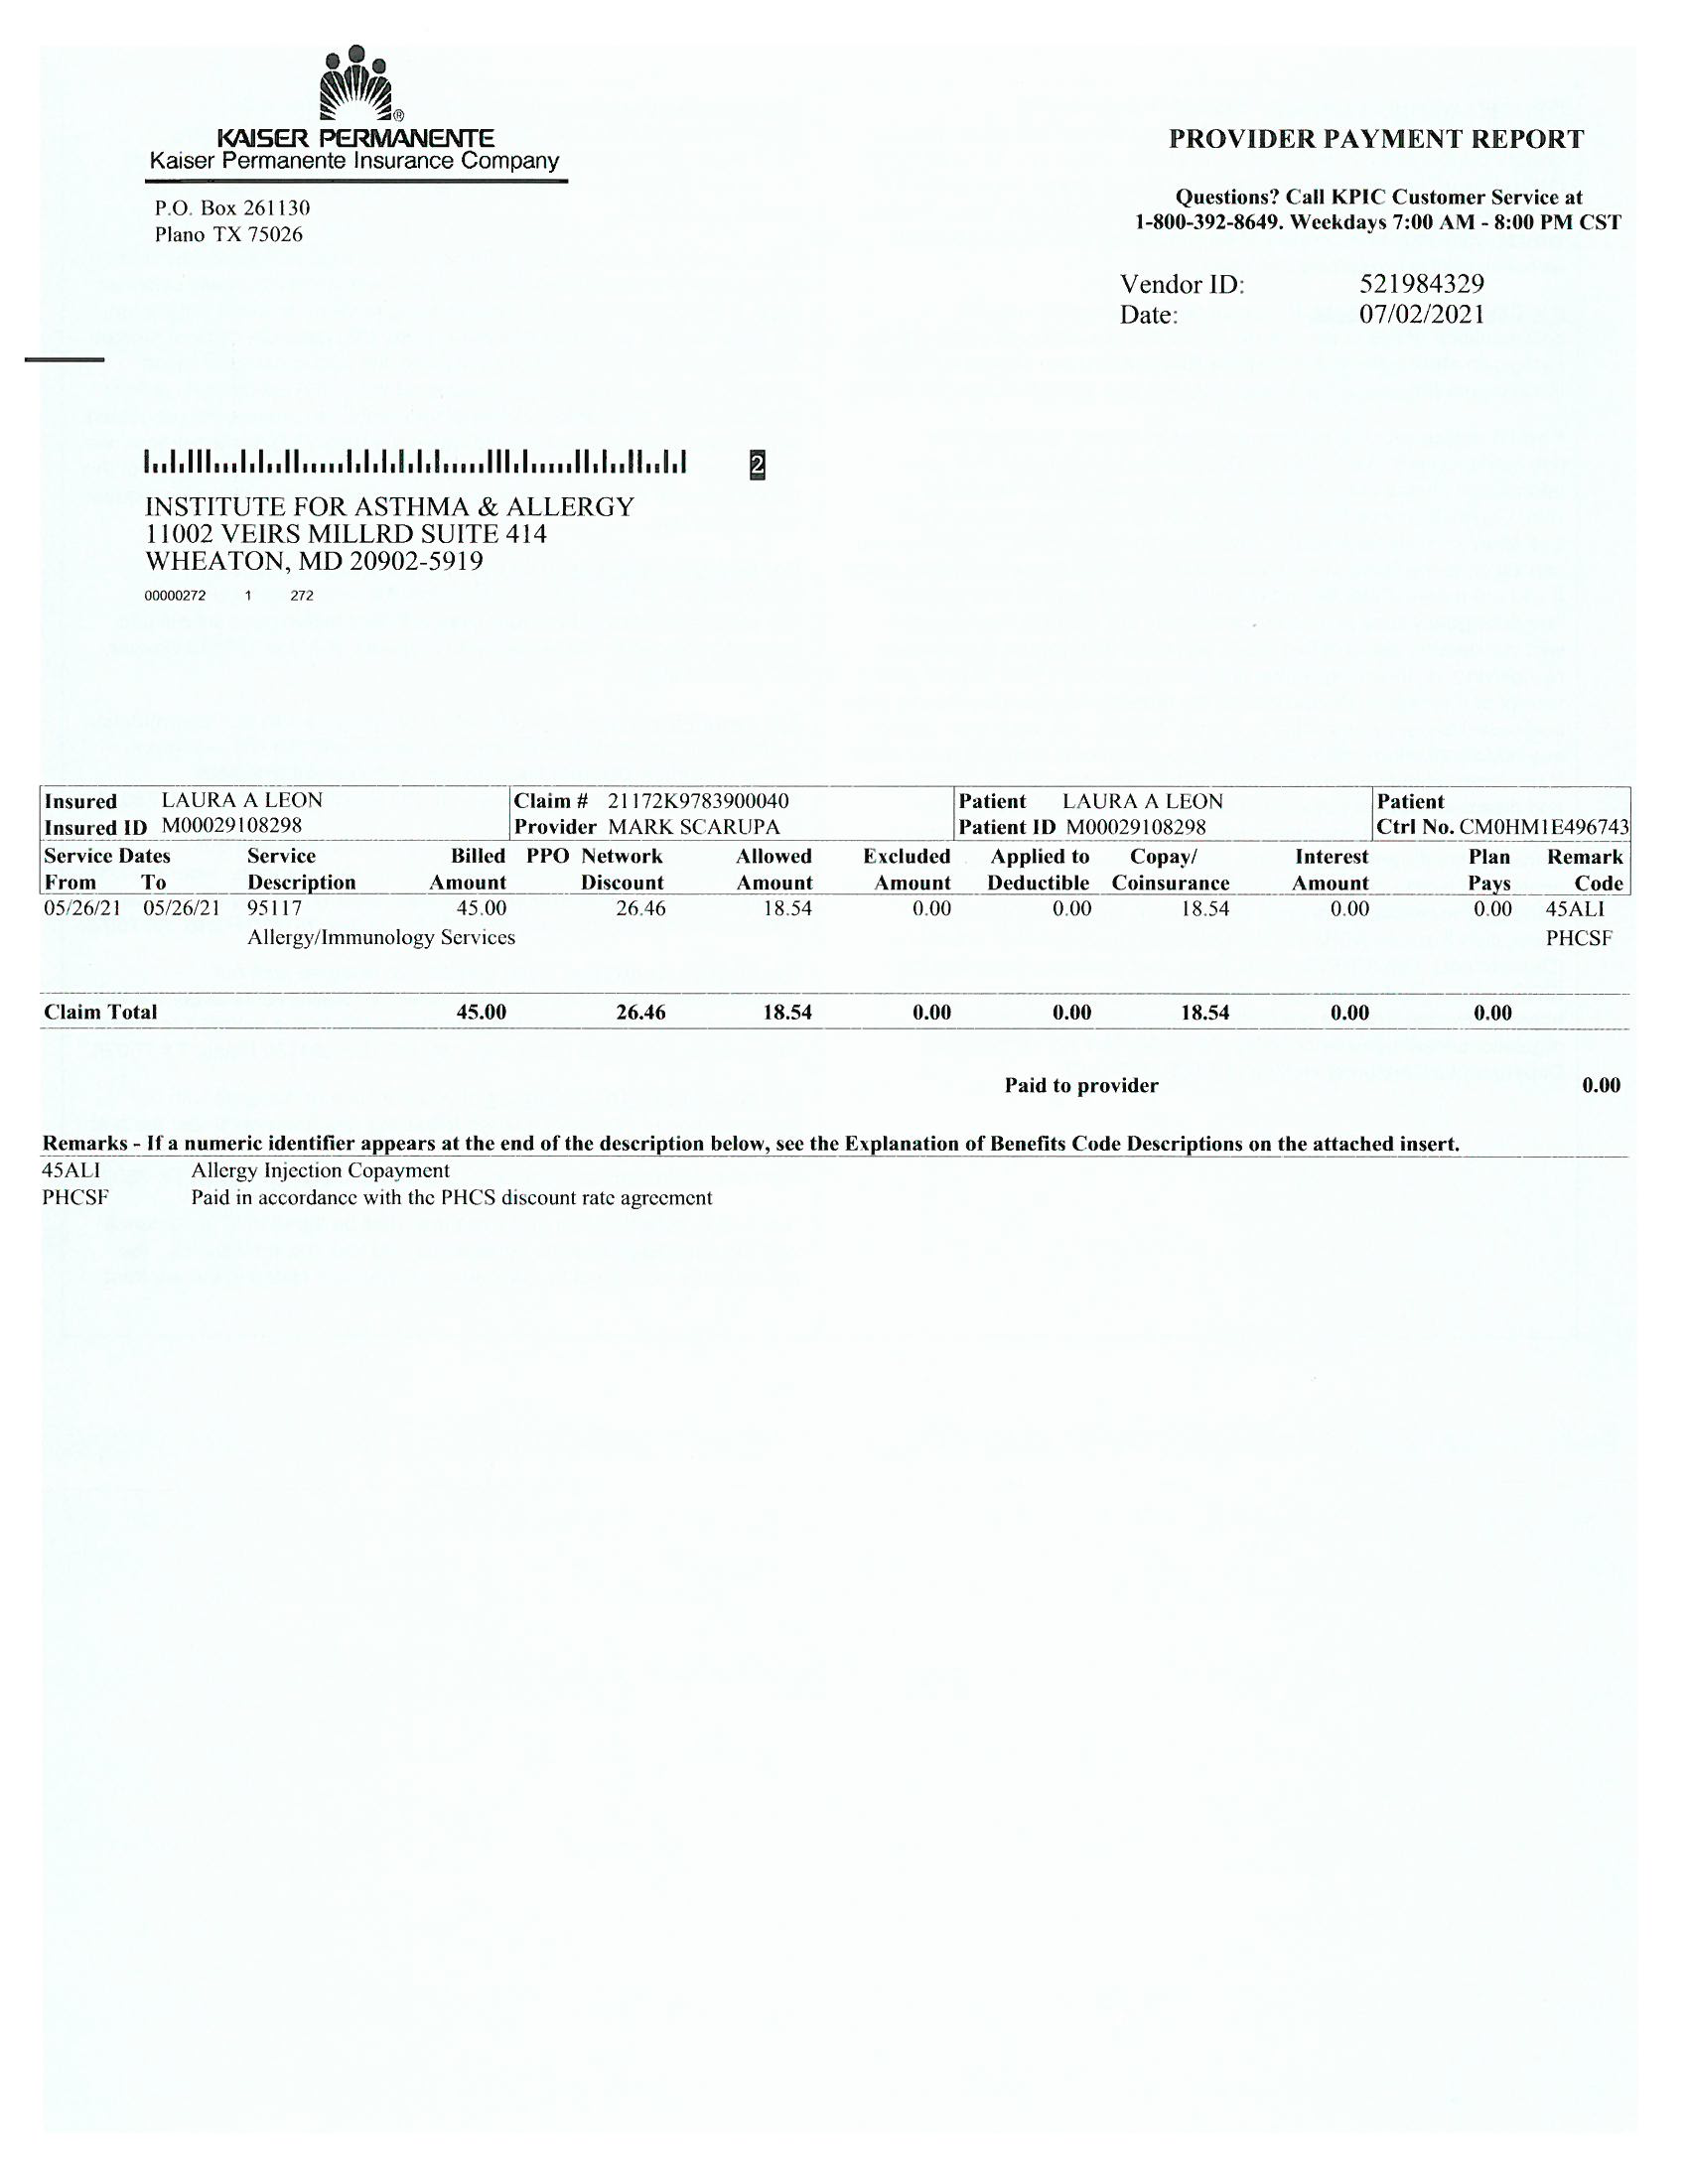data: (1106, 259, 1504, 353)
table: (25, 757, 1642, 922)
